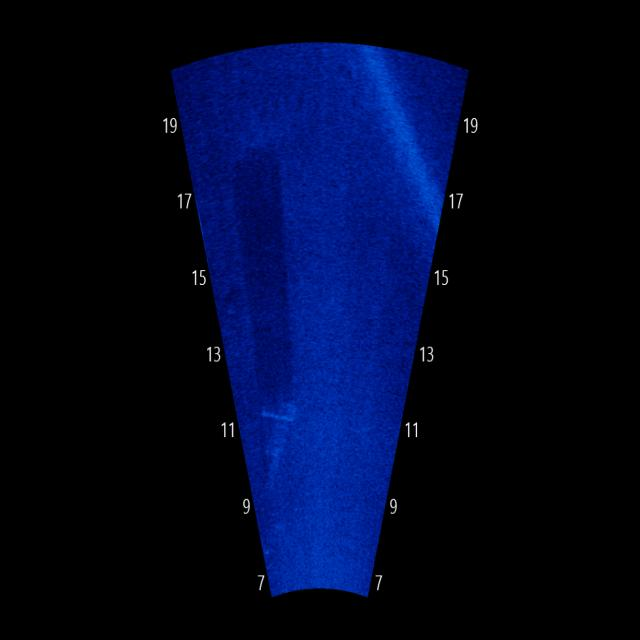circle: (217, 279, 245, 333)
triangle: (253, 387, 303, 498)
